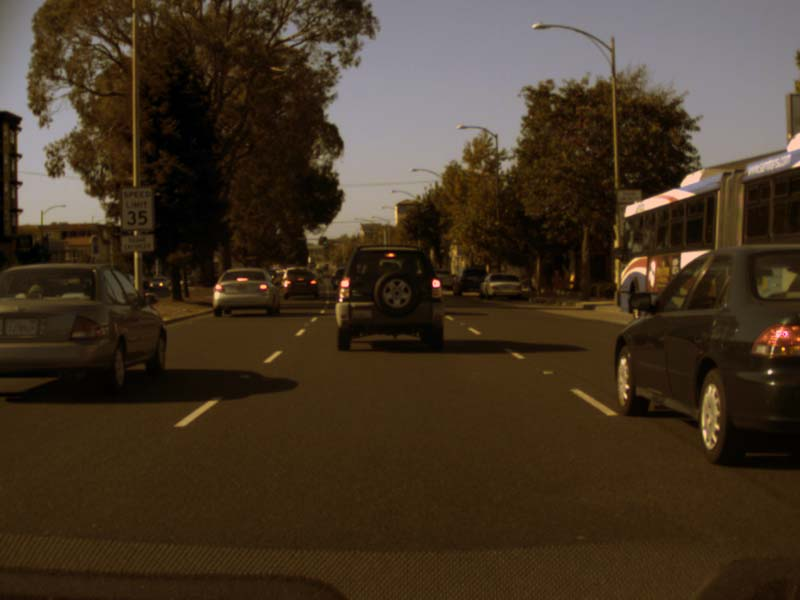Green: (322, 236, 326, 245)
